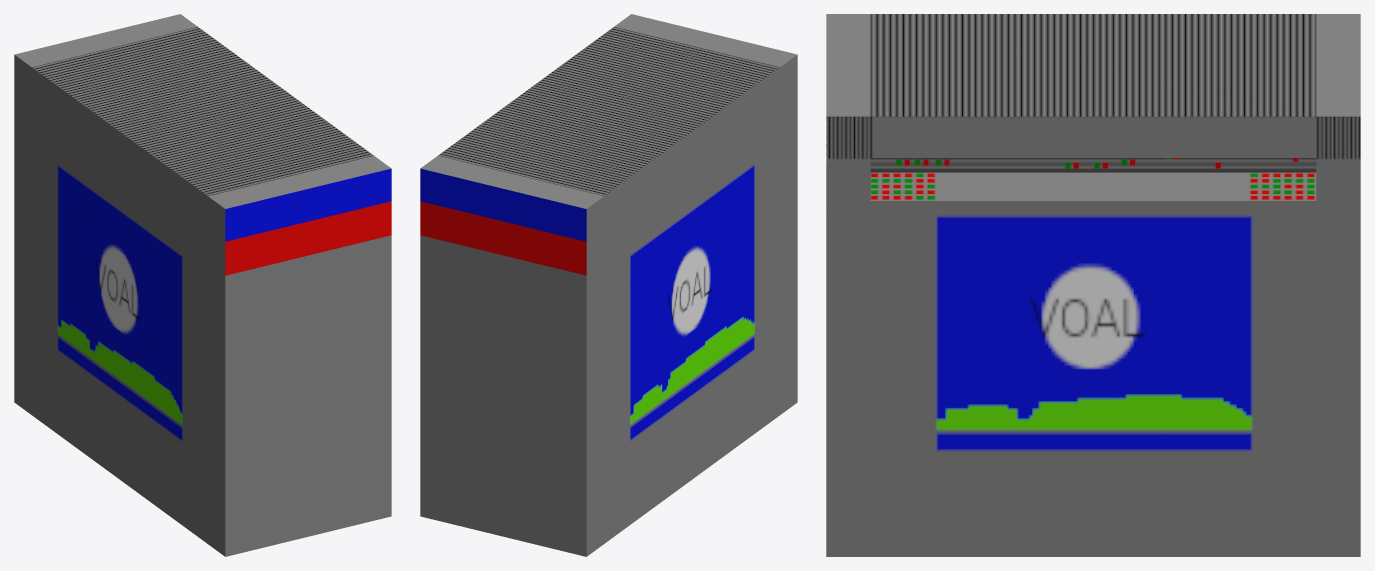
Rendered from SuperComputer.fbx.
3 views of the same model, side by side, from view 1: azimuth 30°, elevation 25°; view 2: azimuth 150°, elevation 25°; view 3: azimuth 270°, elevation 25° (orthographic). The views are drawn at different scales.
Visible parts, largest first — view 1: SuperComputer; view 2: SuperComputer; view 3: SuperComputer.
Part boxes in pixels (bbox=[...]): SuperComputer: bbox=[14, 14, 391, 556]; SuperComputer: bbox=[420, 14, 797, 556]; SuperComputer: bbox=[826, 14, 1360, 556].
Bounding box in the file's own units: 200 × 400 × 440.
